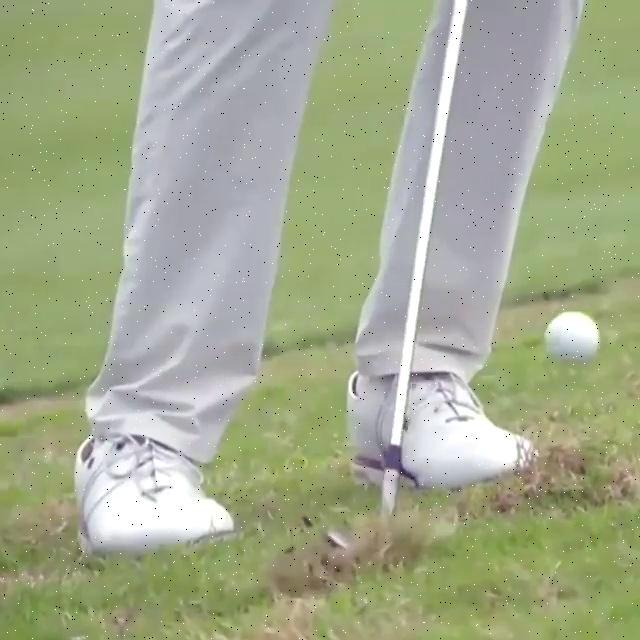ClubHandle: (318, 1, 474, 562)
ClubHead: (323, 515, 356, 556)
GolfBall: (544, 306, 602, 369)
